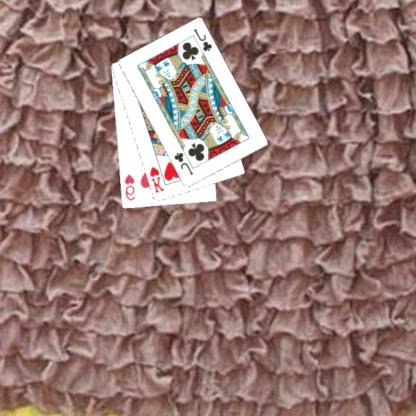6H: (123, 172, 138, 202)
JC: (192, 26, 216, 53), (172, 150, 196, 176)
KH: (148, 164, 168, 194)
